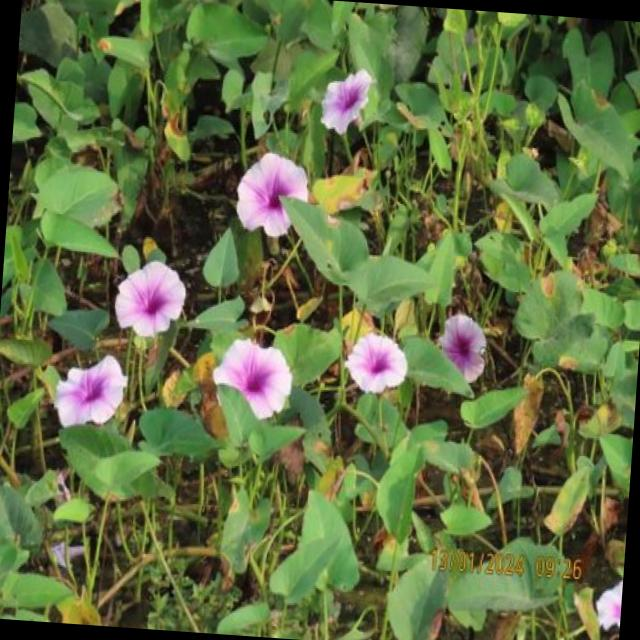ipomoea: (205, 331, 298, 426), (228, 146, 314, 245), (107, 254, 191, 348), (48, 347, 130, 438), (338, 326, 412, 402), (313, 62, 376, 143), (431, 307, 493, 389)
